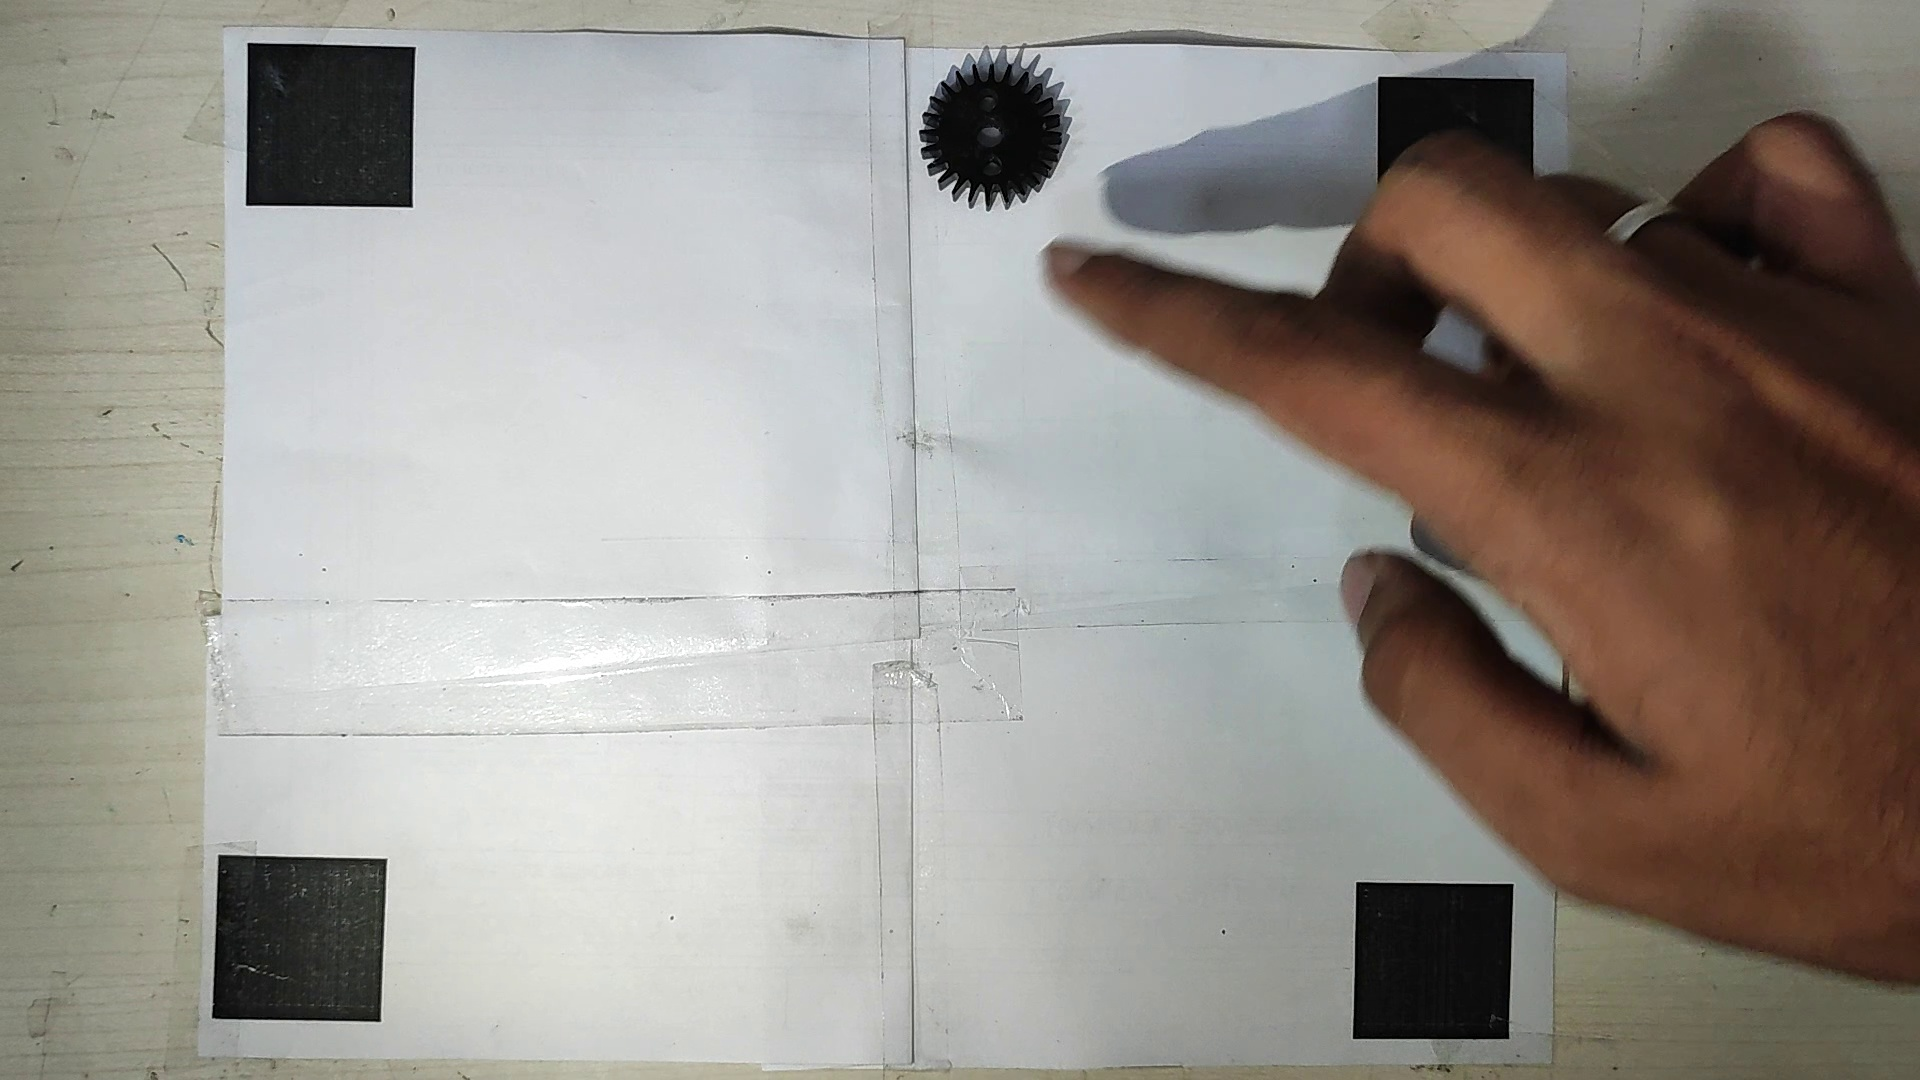Gear: (914, 59, 1069, 211)
